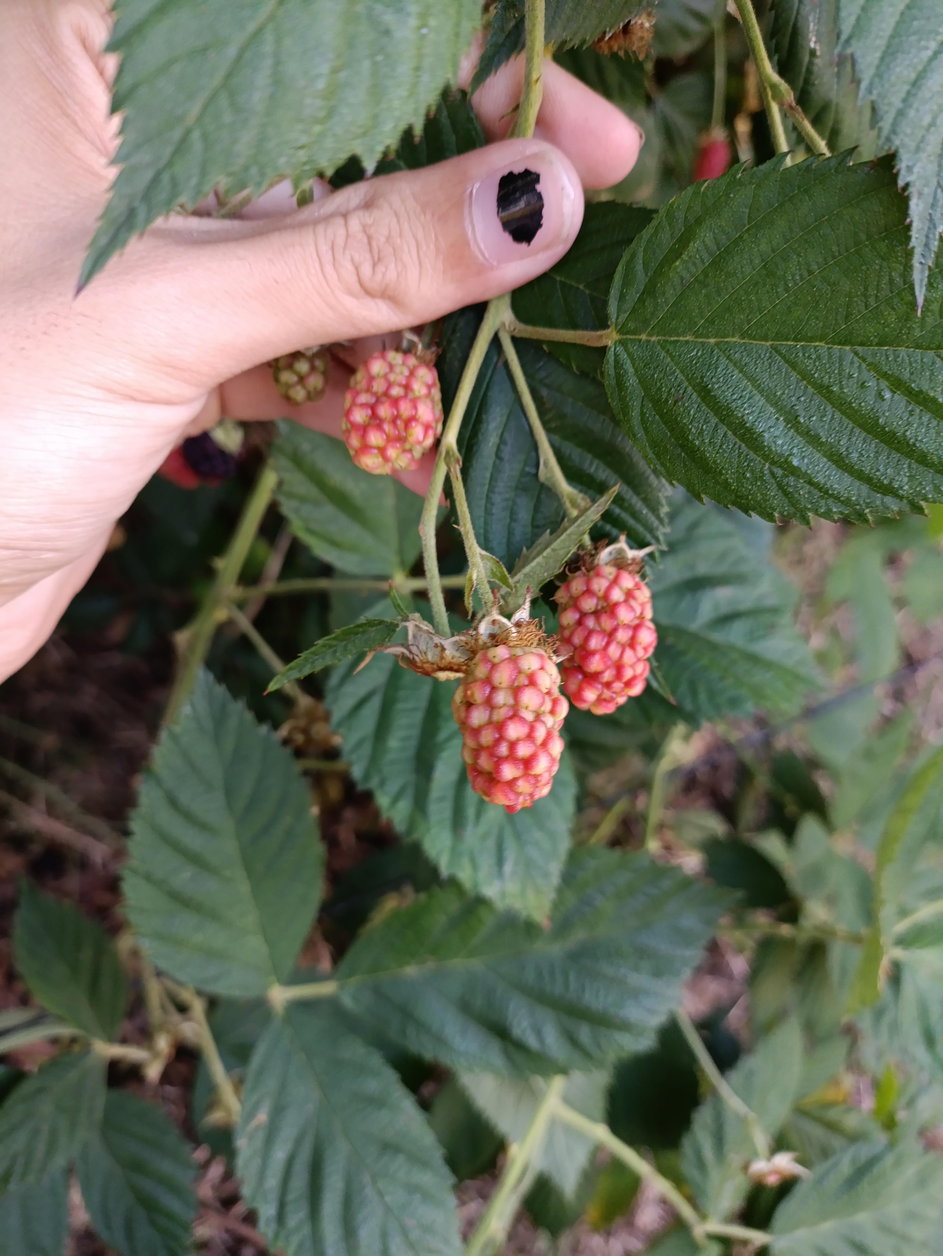naranja: (452, 644, 568, 813), (555, 558, 657, 715), (342, 350, 443, 474)
